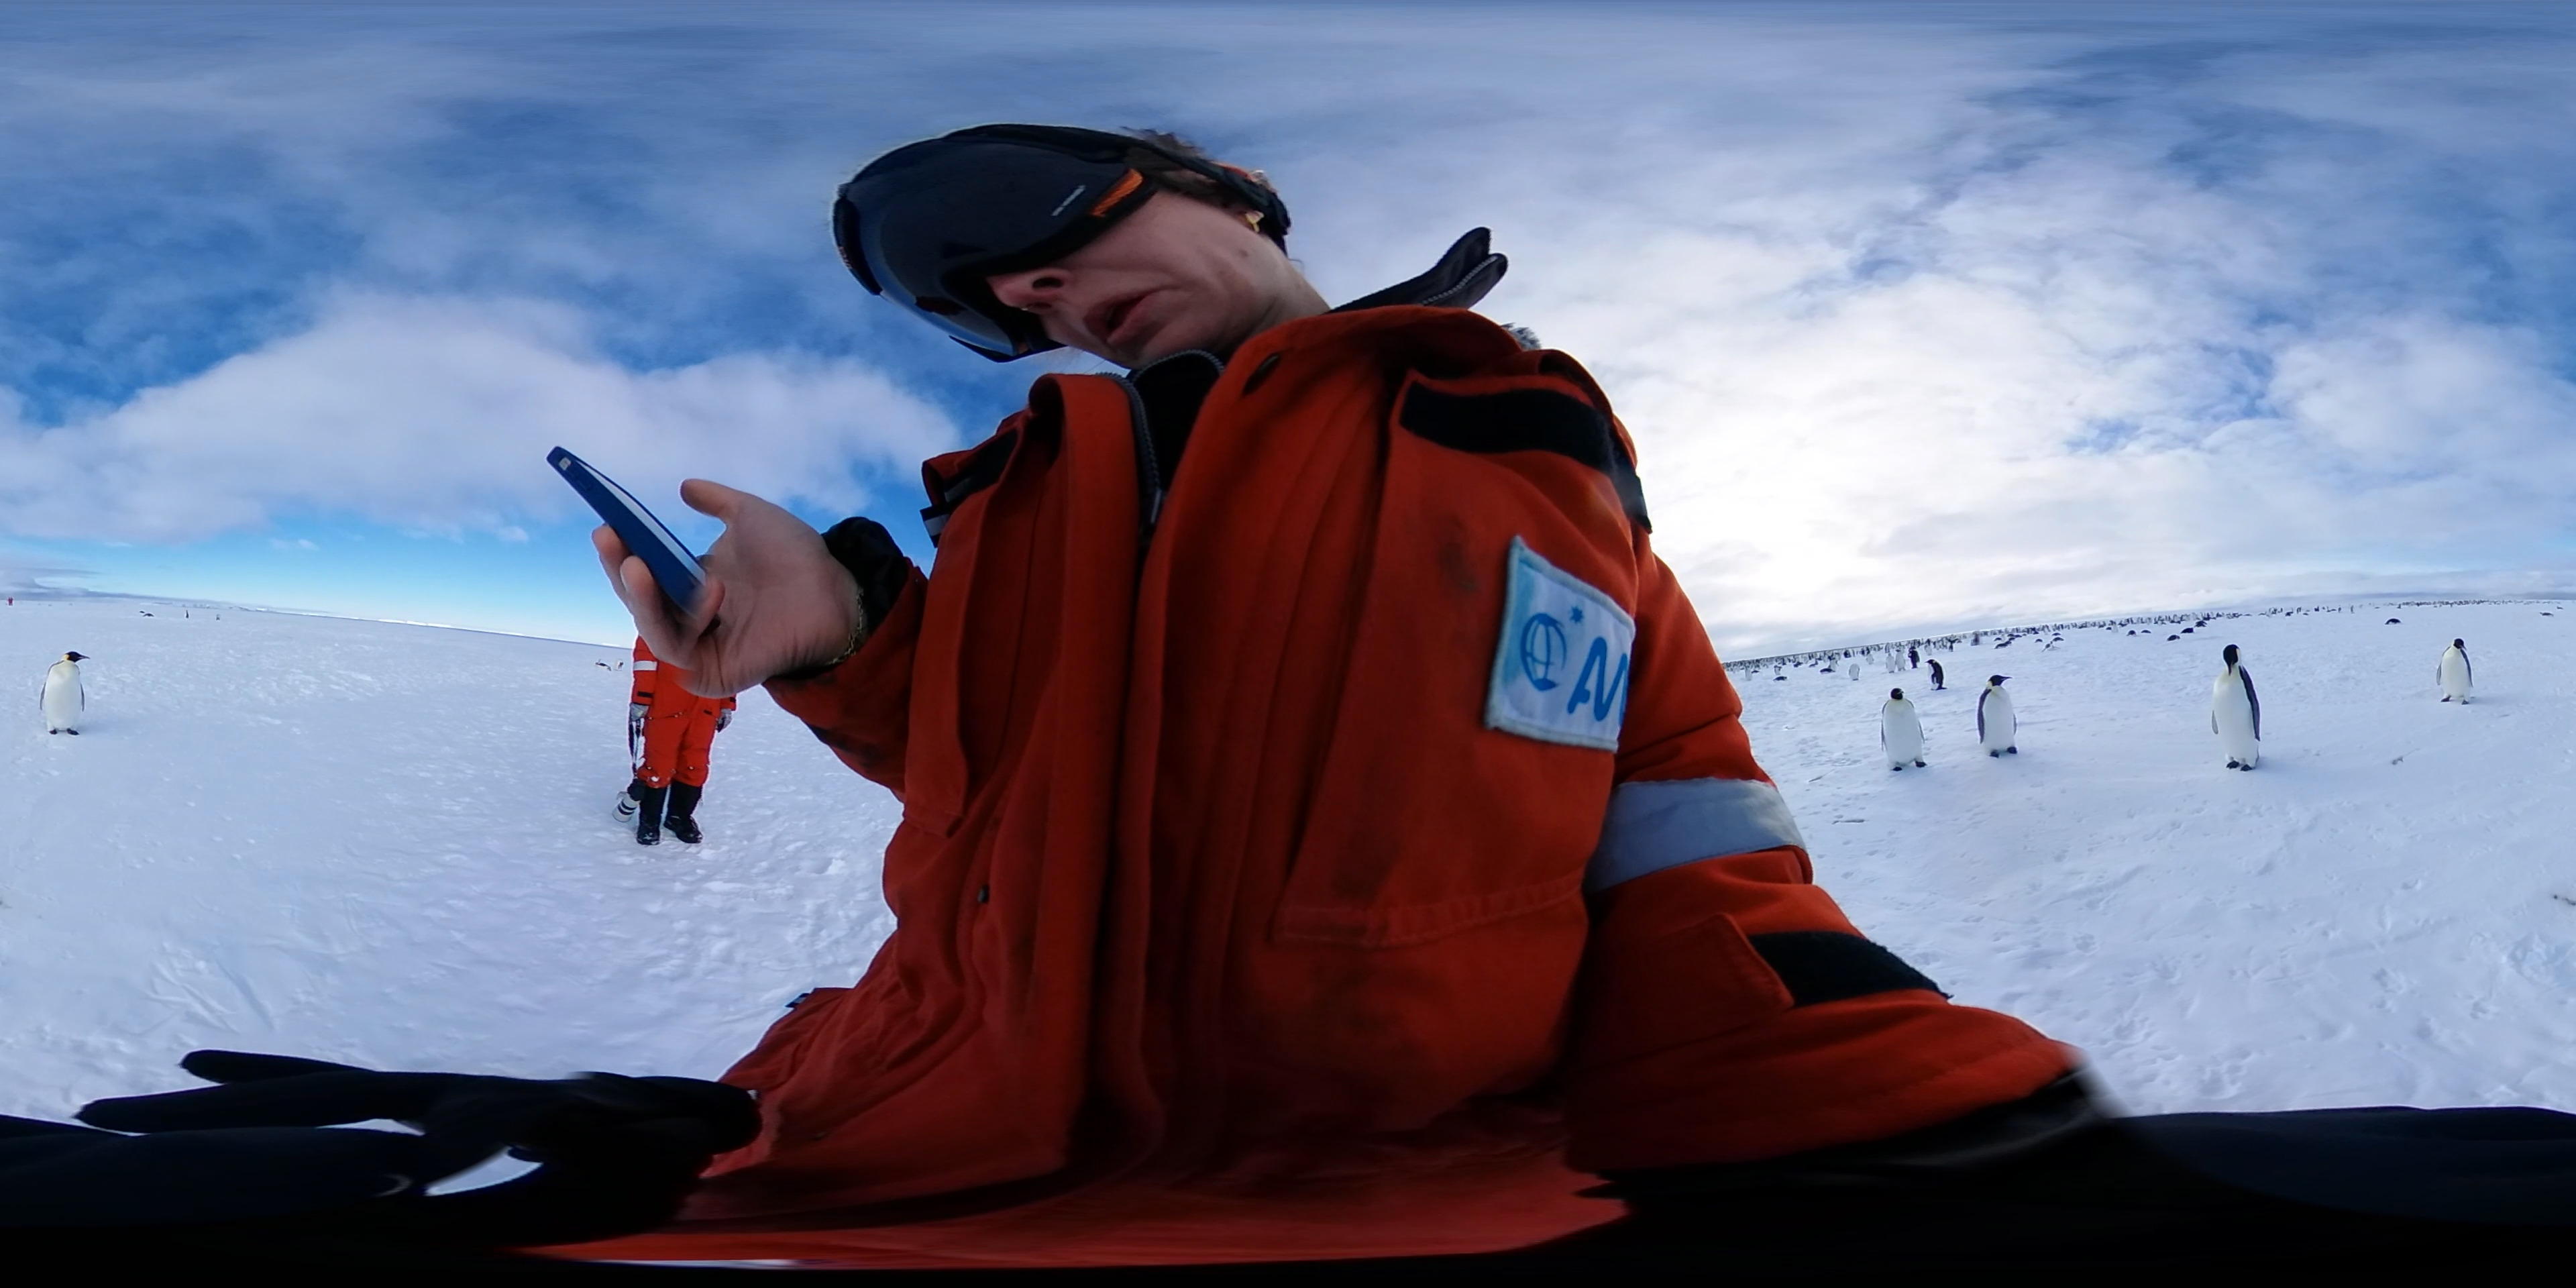adult_standing_penguin: (2206, 644, 2267, 770), (36, 647, 92, 741), (1973, 672, 2029, 764), (1874, 687, 1930, 774), (2438, 636, 2477, 708), (1922, 657, 1950, 692), (1845, 660, 1863, 682), (1884, 651, 1896, 674)
adult_toboggan_penguin: (2384, 616, 2405, 626)
researcher: (549, 136, 1999, 1288), (608, 624, 741, 851)
